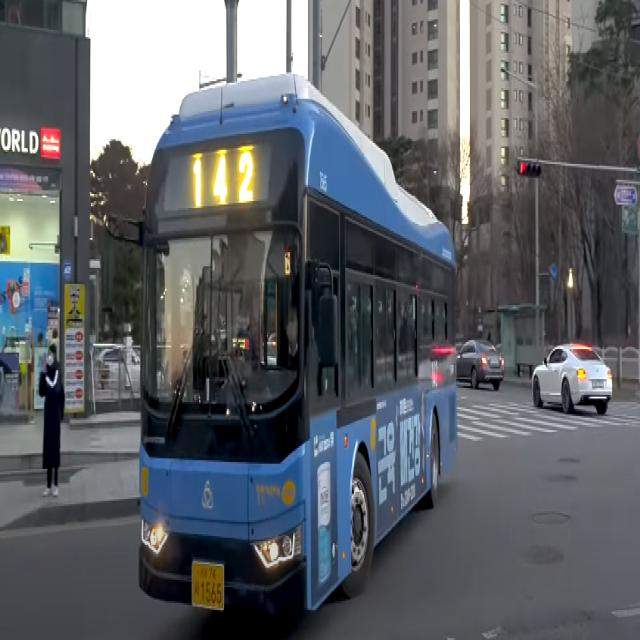bus-number: (190, 150, 256, 209)
